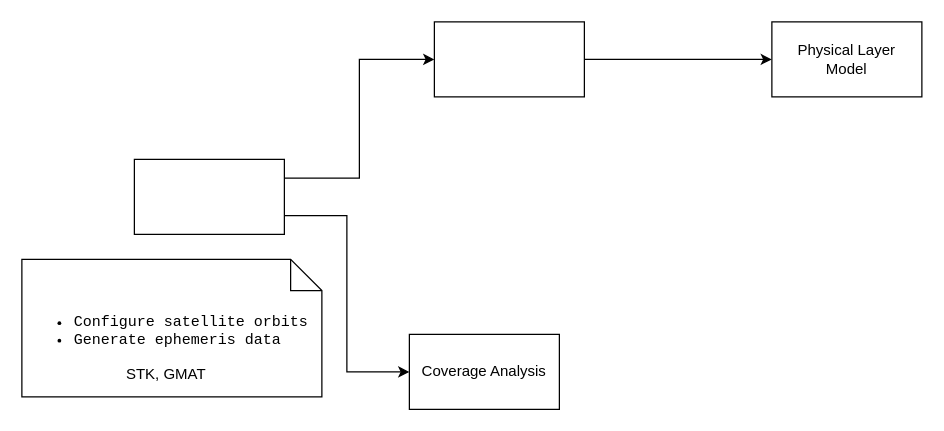
Some shapes in this 944 by 431 pixel diagram are drawn without their labels. The shapes that lost their labels are listed below. From the top down, each one's box as (x1, y1, x2, y2) in pixels, then its label:
(433, 21, 584, 97): Channel Model
(133, 158, 284, 234): Constellation & Orbit Model
